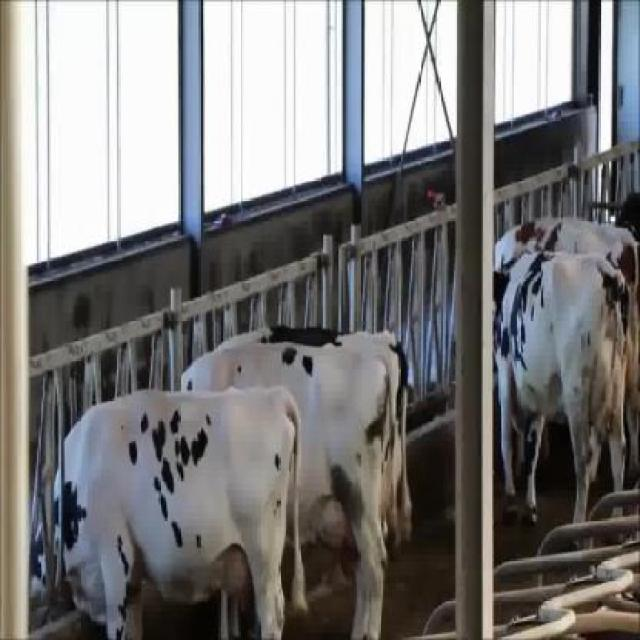Cow: (178, 328, 414, 638), (27, 383, 310, 639), (492, 251, 631, 552)
